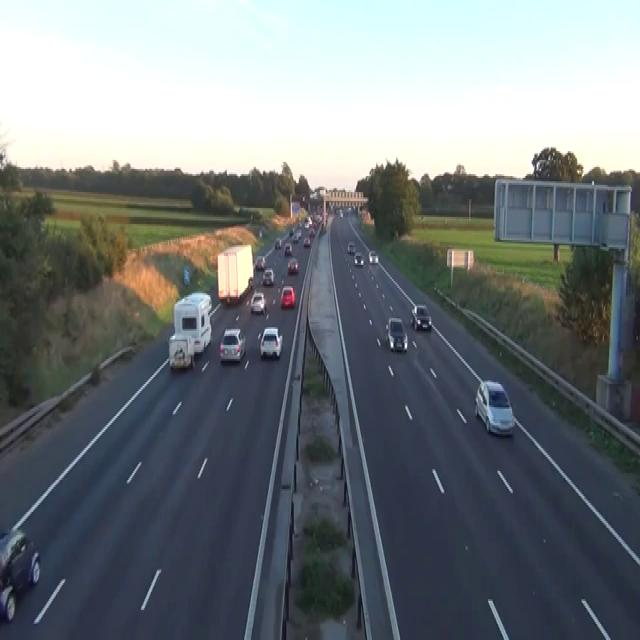Car: (0, 526, 40, 622), (474, 378, 515, 436), (168, 332, 195, 370), (219, 327, 245, 363), (385, 316, 408, 352), (259, 325, 283, 359), (410, 304, 431, 331), (250, 290, 266, 314), (280, 284, 295, 308), (261, 267, 274, 286), (287, 256, 298, 274), (255, 254, 265, 270), (368, 249, 378, 263), (354, 251, 364, 265), (347, 240, 355, 254), (284, 242, 292, 256), (292, 229, 300, 242), (274, 236, 281, 249), (304, 217, 312, 227), (303, 237, 310, 247), (248, 276, 253, 288), (295, 228, 301, 238), (315, 214, 322, 222), (321, 222, 326, 233), (309, 228, 315, 236), (288, 228, 294, 236), (258, 228, 262, 238), (346, 206, 351, 214), (297, 218, 301, 228), (339, 210, 343, 217)
Truck: (173, 292, 212, 356), (217, 242, 254, 304)
